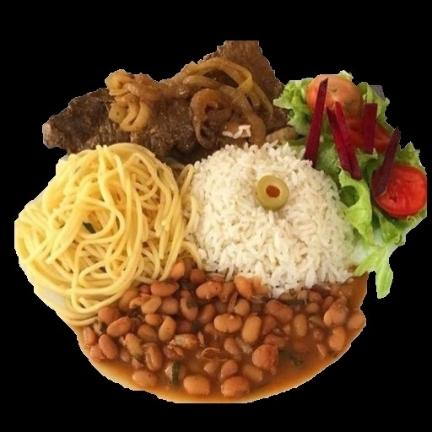beans: (76, 260, 369, 398)
meat: (40, 40, 294, 167)
pasta: (14, 146, 196, 321)
rice: (194, 142, 364, 299)
salad: (280, 75, 423, 296)
